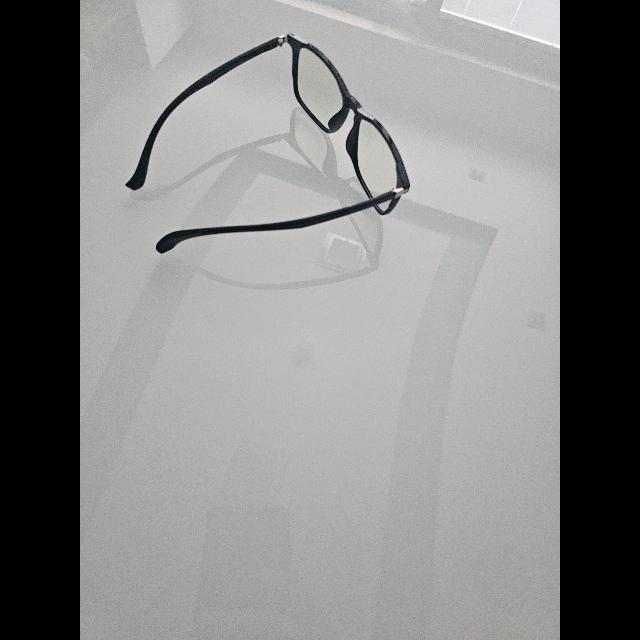glasses: (126, 34, 410, 254)
